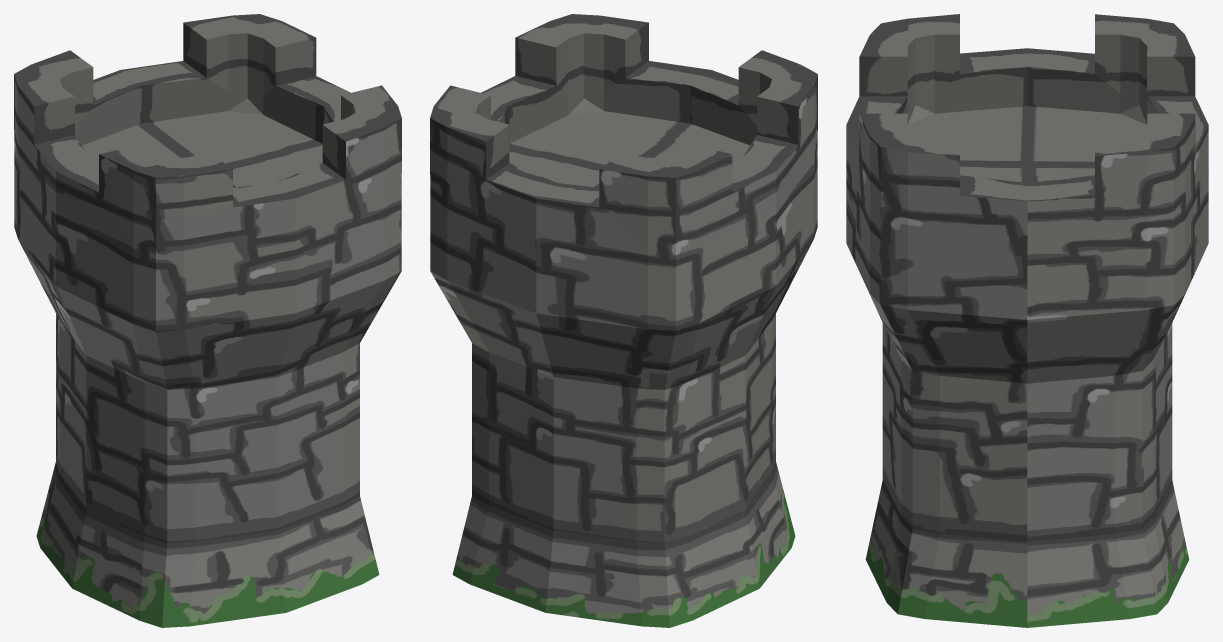
Rendered from tower.fbx.
3 views of the same model, side by side, from view 1: azimuth 30°, elevation 25°; view 2: azimuth 150°, elevation 25°; view 3: azimuth 270°, elevation 25° (orthographic). The views are drawn at different scales.
Visible parts, largest first — view 1: Tower1; view 2: Tower1; view 3: Tower1.
Part boxes in pixels (box(x1,y1,x2,y2)): Tower1: box(14, 14, 401, 627); Tower1: box(430, 14, 817, 627); Tower1: box(846, 14, 1208, 627).
Bounding box in the file's own units: 687 × 993 × 687.
Materials: 1 (1 with a texture image).
